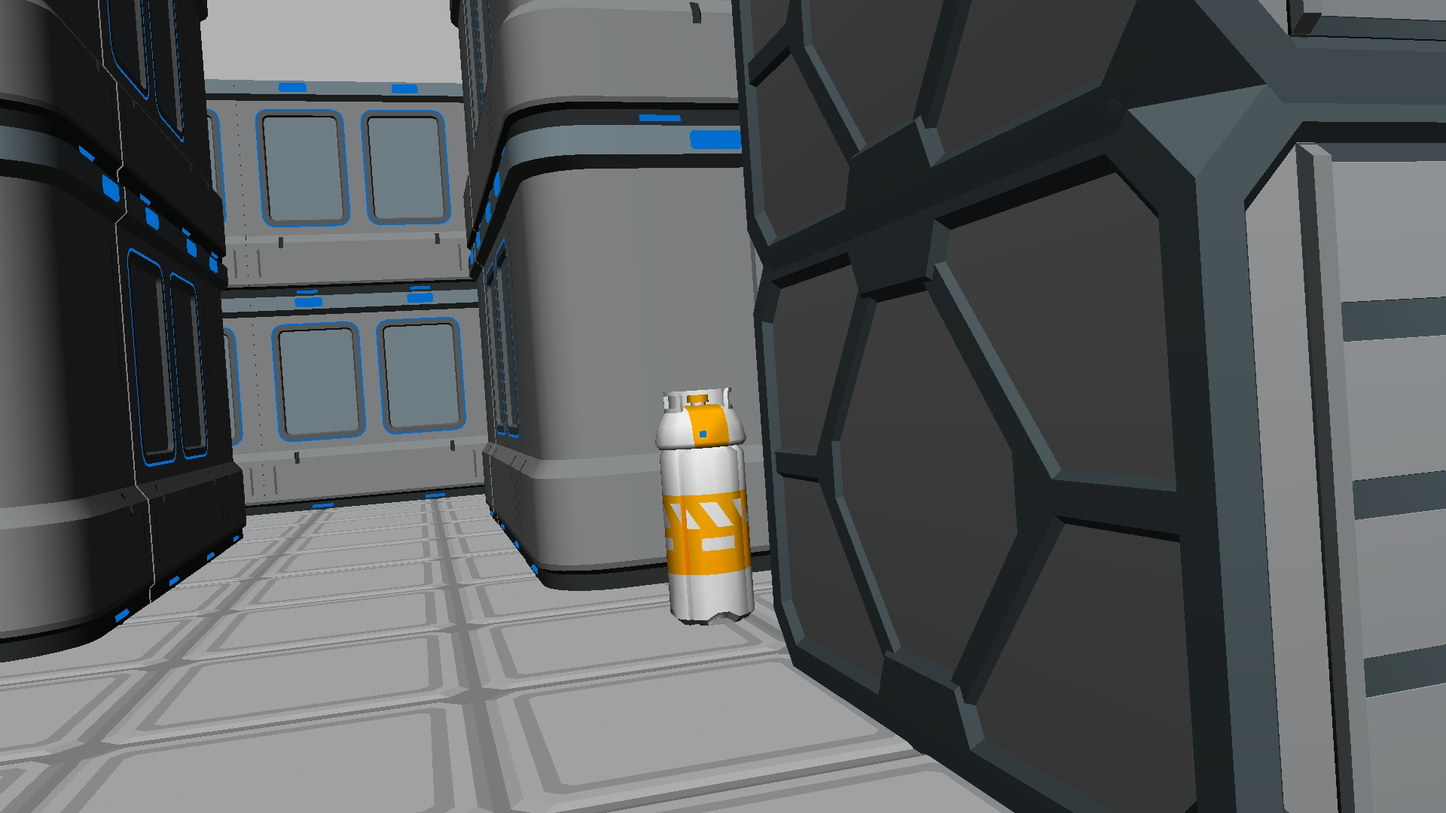yellow barrel: (656, 387, 754, 625)
